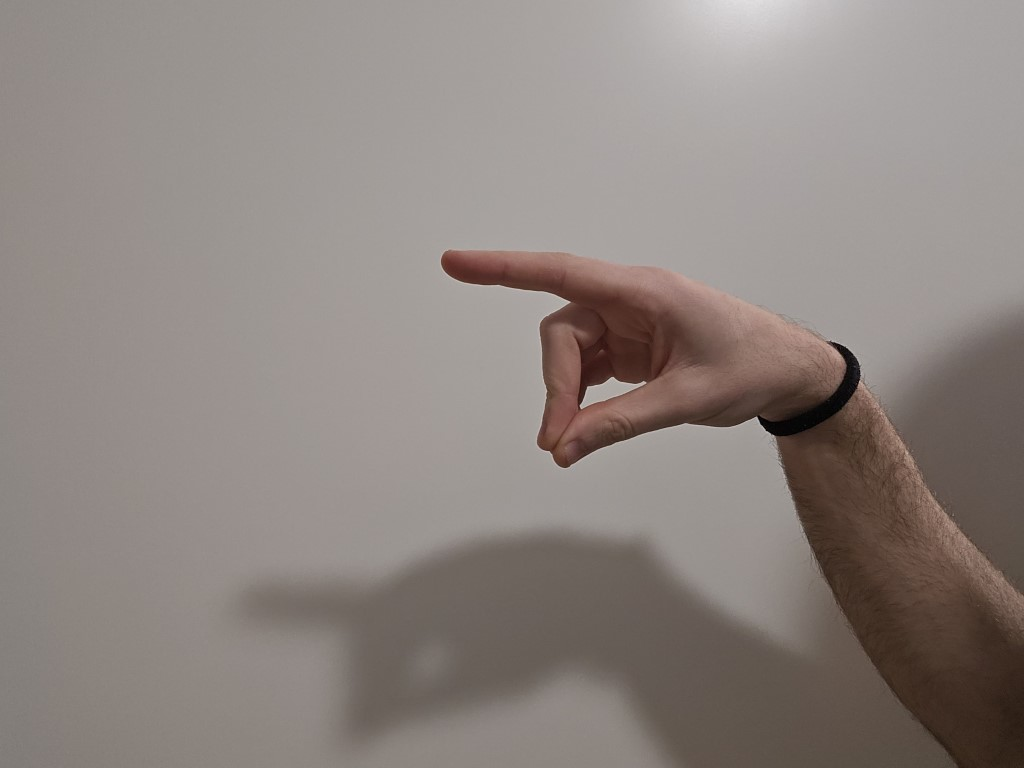p: (401, 215, 770, 515)
